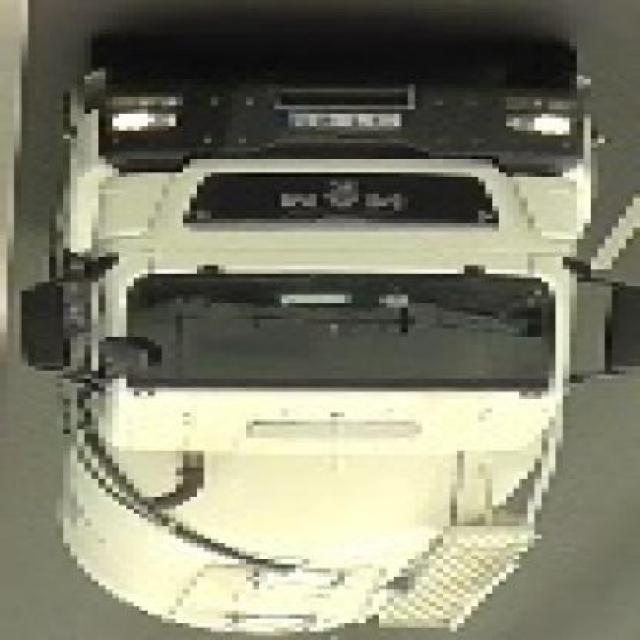truck: (29, 43, 640, 640)
